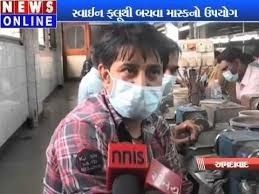person without safety: (63, 23, 185, 193), (217, 49, 259, 104)
